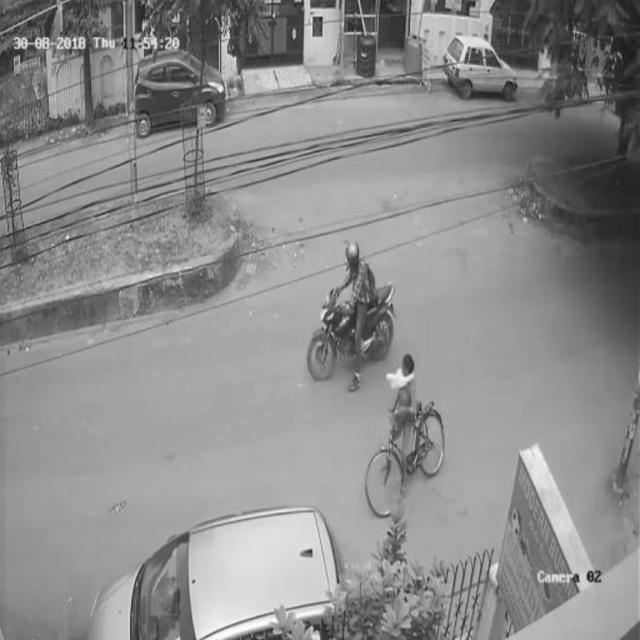vehicle: (91, 513, 342, 639), (363, 353, 446, 518), (304, 239, 392, 376), (136, 51, 228, 132), (444, 29, 520, 102)
